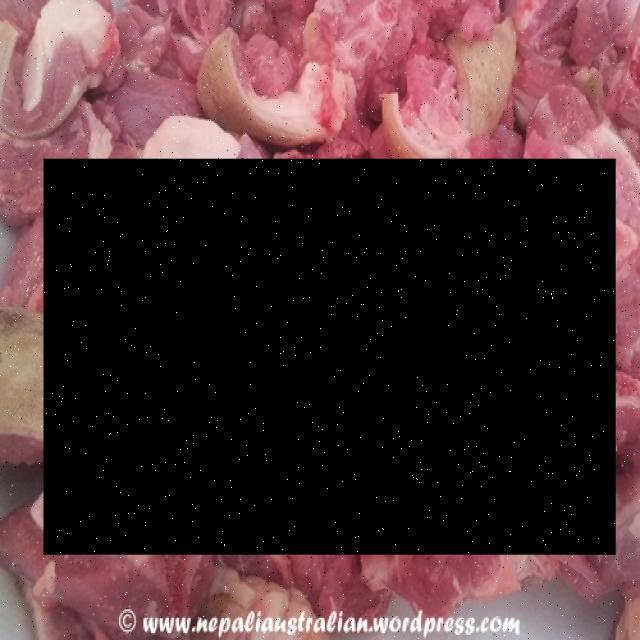Mutton: (44, 160, 616, 556)
